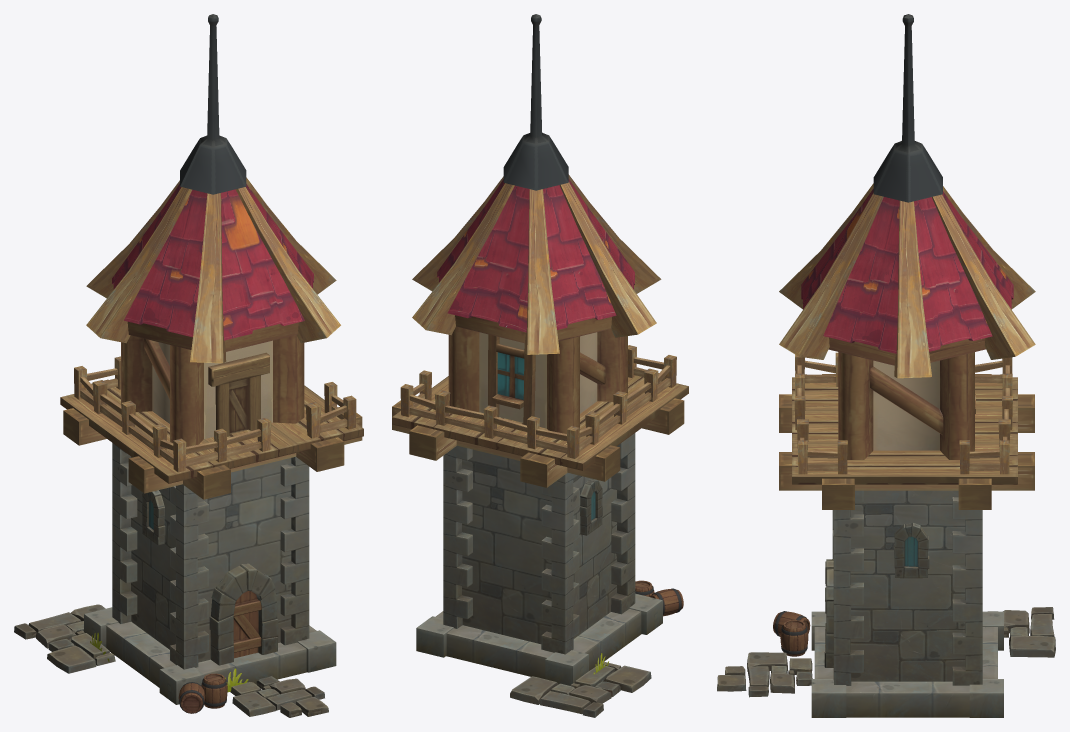
File: watch_tower.FBX
The picture shows the model from 3 angles, left to right: view 1: azimuth 30°, elevation 25°; view 2: azimuth 150°, elevation 25°; view 3: azimuth 270°, elevation 25°; orthographic projection. The views are drawn at different scales.
Visible parts, largest first — view 1: watch_tower; view 2: watch_tower; view 3: watch_tower.
Boxes of the visible parts, bbox=[...] form: watch_tower: bbox=[14, 14, 363, 717]; watch_tower: bbox=[392, 14, 688, 717]; watch_tower: bbox=[717, 14, 1055, 717].
Size of the model in its own units: 1438 by 3490 by 1609.
Materials: 4 (4 with a texture image).
